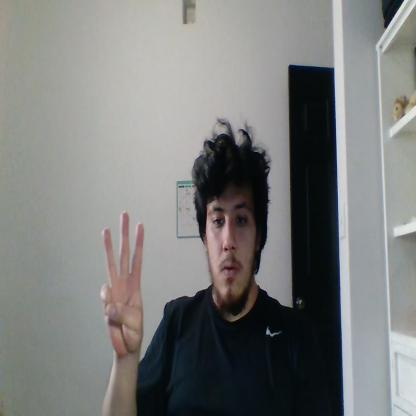W: (100, 211, 144, 354)
